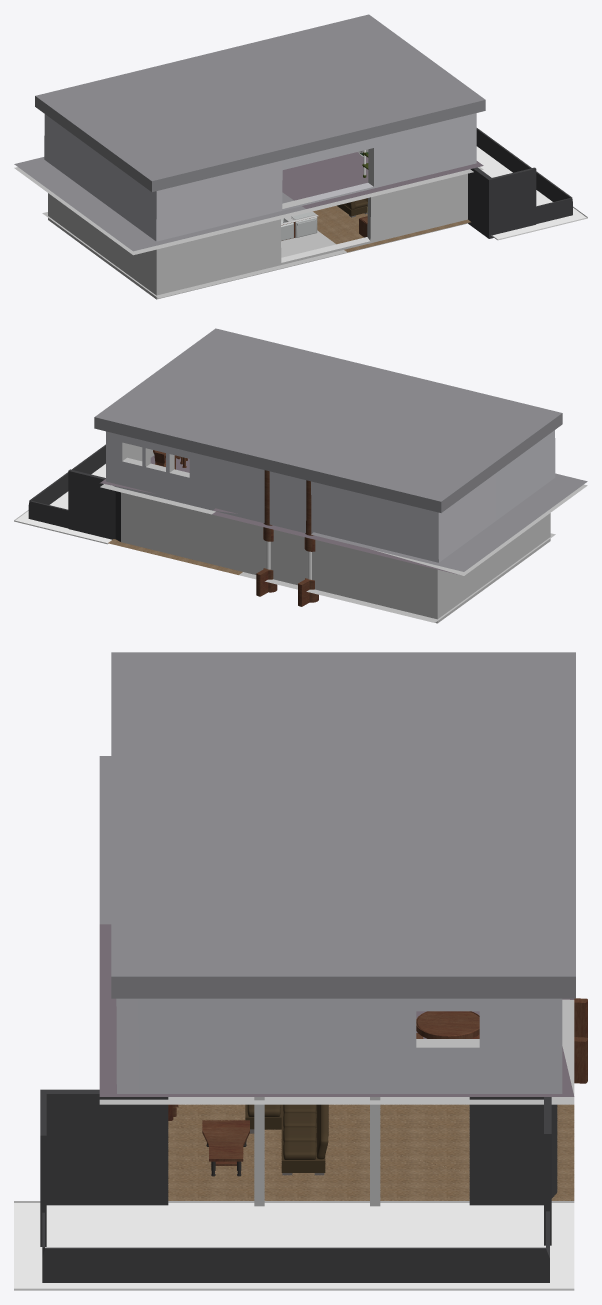
The model's file is 3daptm.gltf.
3 renders of one model, top to bottom at view 1: azimuth 30°, elevation 25°; view 2: azimuth 150°, elevation 25°; view 3: azimuth 270°, elevation 25°, orthographic. The views are drawn at different scales.
Parts seen in each view (by area): view 1: Cube.036, Cube.318, Cube.014, Cube.006, Cube.016, Cube.005, ^0A6FB32C8DC72FF21F137A84B2B04C22FA8228053090CCF372^pimgpsh. (×2), Cube.003, ^0A6FB32C8DC72FF21F137A84B2B04C22FA8228053090CCF372^pimgpsh_, Cylinder.010, Cube.015, Cube.017 (+1 smaller); view 2: Cube.036, Cube.318, Cube.014, Cube.006, Cube.016, Cube.011, ^0A6FB32C8DC72FF21F137A84B2B04C22FA8228053090CCF372^pimgpsh. (×2), Cube.003, ^0A6FB32C8DC72FF21F137A84B2B04C22FA8228053090CCF372^pimgpsh_, Cube.010, Cube.017; view 3: Cube.036, ^0A6FB32C8DC72FF21F137A84B2B04C22FA8228053090CCF372^pimgpsh. (×2), Cube.006, Cube.318, Cube.005, Cube.003, Cube.008, Cube.014, Cube.016, Circle.000, Cylinder.005, Cube.011.
Boxes of the visible parts, x1,y1,x2,y2 form: Cube.036: [35, 14, 485, 191]; Cube.318: [44, 113, 476, 241]; Cube.014: [48, 173, 467, 299]; Cube.006: [468, 128, 572, 238]; Cube.016: [14, 157, 305, 251]; Cube.005: [282, 152, 483, 208]; ^0A6FB32C8DC72FF21F137A84B2B04C22FA8228053090CCF372^pimgpsh. (×2): [313, 146, 587, 252]; Cube.003: [14, 167, 483, 255]; ^0A6FB32C8DC72FF21F137A84B2B04C22FA8228053090CCF372^pimgpsh_: [42, 212, 346, 298]; Cylinder.010: [281, 211, 318, 240]; Cube.015: [281, 237, 369, 262]; Cube.017: [282, 148, 373, 208]; Cube.036: [94, 328, 562, 512]; Cube.318: [106, 430, 555, 562]; Cube.014: [121, 492, 550, 623]; Cube.006: [28, 444, 120, 541]; Cube.016: [311, 473, 587, 571]; Cube.011: [256, 470, 318, 606]; ^0A6FB32C8DC72FF21F137A84B2B04C22FA8228053090CCF372^pimgpsh. (×2): [14, 464, 242, 574]; Cube.003: [100, 484, 587, 575]; ^0A6FB32C8DC72FF21F137A84B2B04C22FA8228053090CCF372^pimgpsh_: [239, 533, 555, 622]; Cube.010: [212, 511, 459, 574]; Cube.017: [122, 442, 189, 477]; Cube.036: [111, 652, 575, 998]; ^0A6FB32C8DC72FF21F137A84B2B04C22FA8228053090CCF372^pimgpsh. (×2): [14, 1104, 574, 1290]; Cube.006: [40, 1089, 557, 1282]; Cube.318: [116, 998, 562, 1093]; Cube.005: [99, 924, 574, 1096]; Cube.003: [99, 999, 574, 1104]; Cube.008: [245, 1104, 328, 1175]; Cube.014: [254, 1097, 380, 1206]; Cube.016: [99, 756, 111, 924]; Circle.000: [202, 1120, 249, 1176]; Cylinder.005: [416, 1011, 479, 1038]; Cube.011: [574, 998, 587, 1083].
Size of the model in its own units: 7.48 by 2.16 by 4.31.
